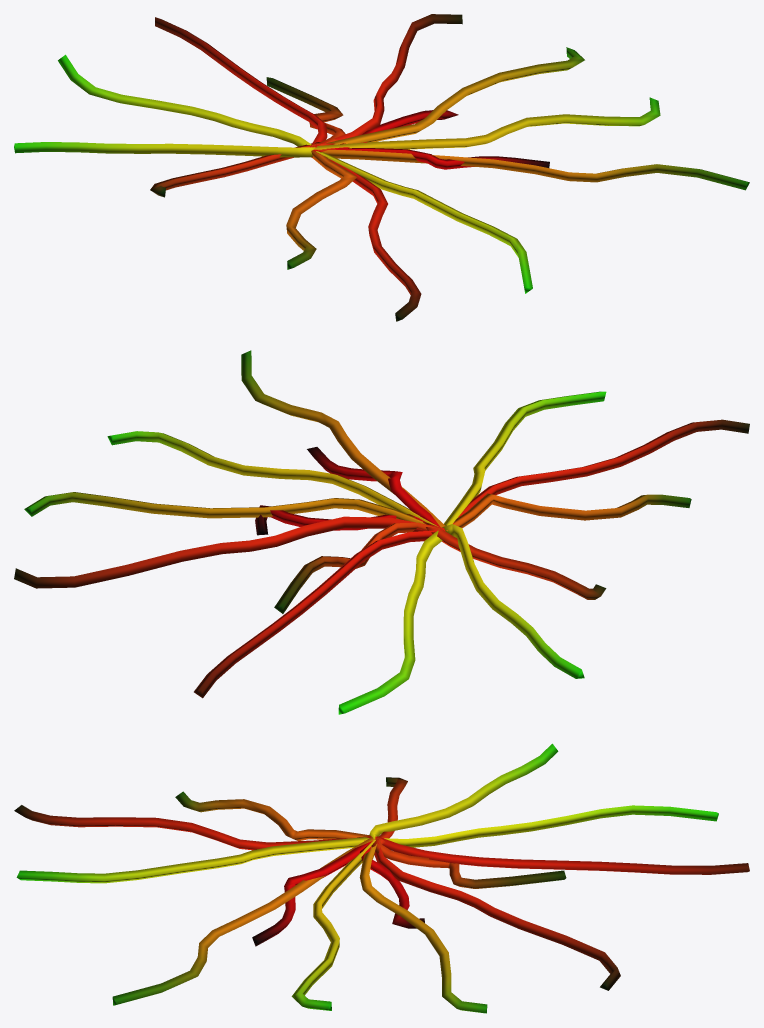
File: Alien04.fbx
3 views of the same model, one above another, from view 1: azimuth 30°, elevation 25°; view 2: azimuth 150°, elevation 25°; view 3: azimuth 270°, elevation 25° (orthographic). The views are drawn at different scales.
Parts seen in each view (by area): view 1: transform5; view 2: transform5; view 3: transform5.
Boxes of the visible parts, x1=… form: transform5: x1=14, y1=14, x2=749, y2=321; transform5: x1=14, y1=350, x2=749, y2=714; transform5: x1=14, y1=743, x2=749, y2=1013.
Size of the model in its own units: 363 by 19.3 by 433.
